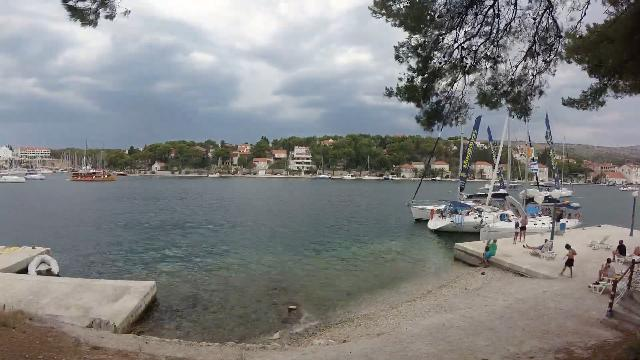Freighter: (68, 165, 122, 187)
Sailboat: (22, 167, 48, 181)
